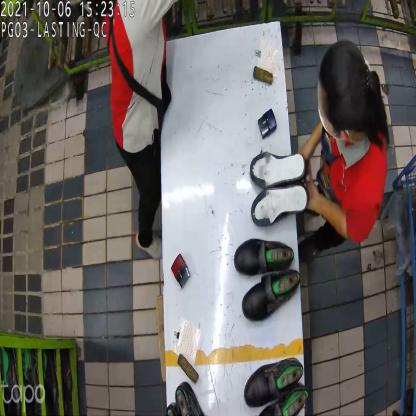shoes: (251, 152, 313, 248), (233, 238, 300, 323), (244, 352, 313, 415)
stamp: (258, 108, 278, 140), (173, 254, 191, 288)
